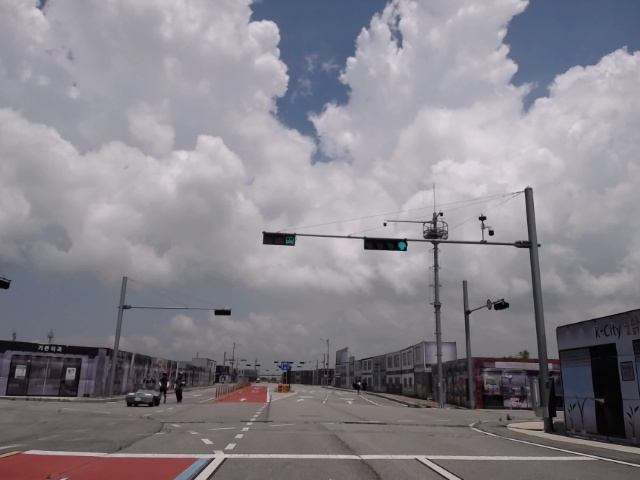straight_green_4: (363, 236, 408, 251)
